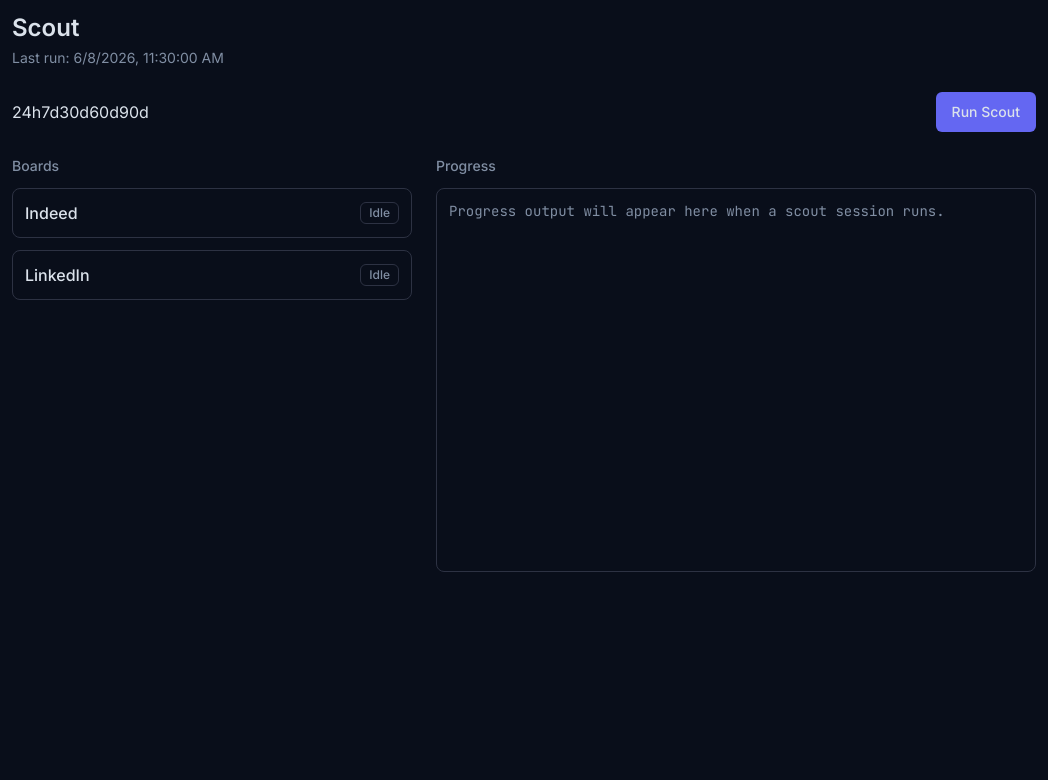
Test: ScoutScreen › handles ScraperBusyError without entering running state
This screenshot has width=1048, height=780.
Expected: the heading "Scout" is shown, [12,13,79,42]
Click the button "Run Scout": click(986, 112) [936,92,1036,132]
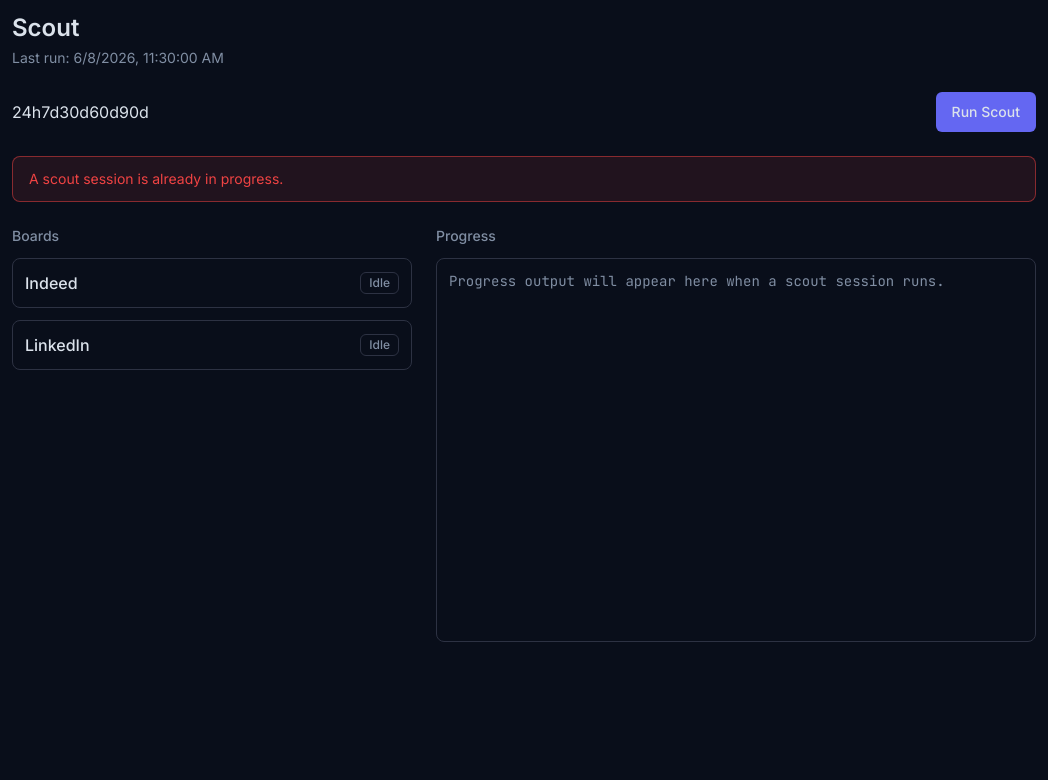
Expected: the message reads "A scout session is already in progress.", [29,170,283,187]
